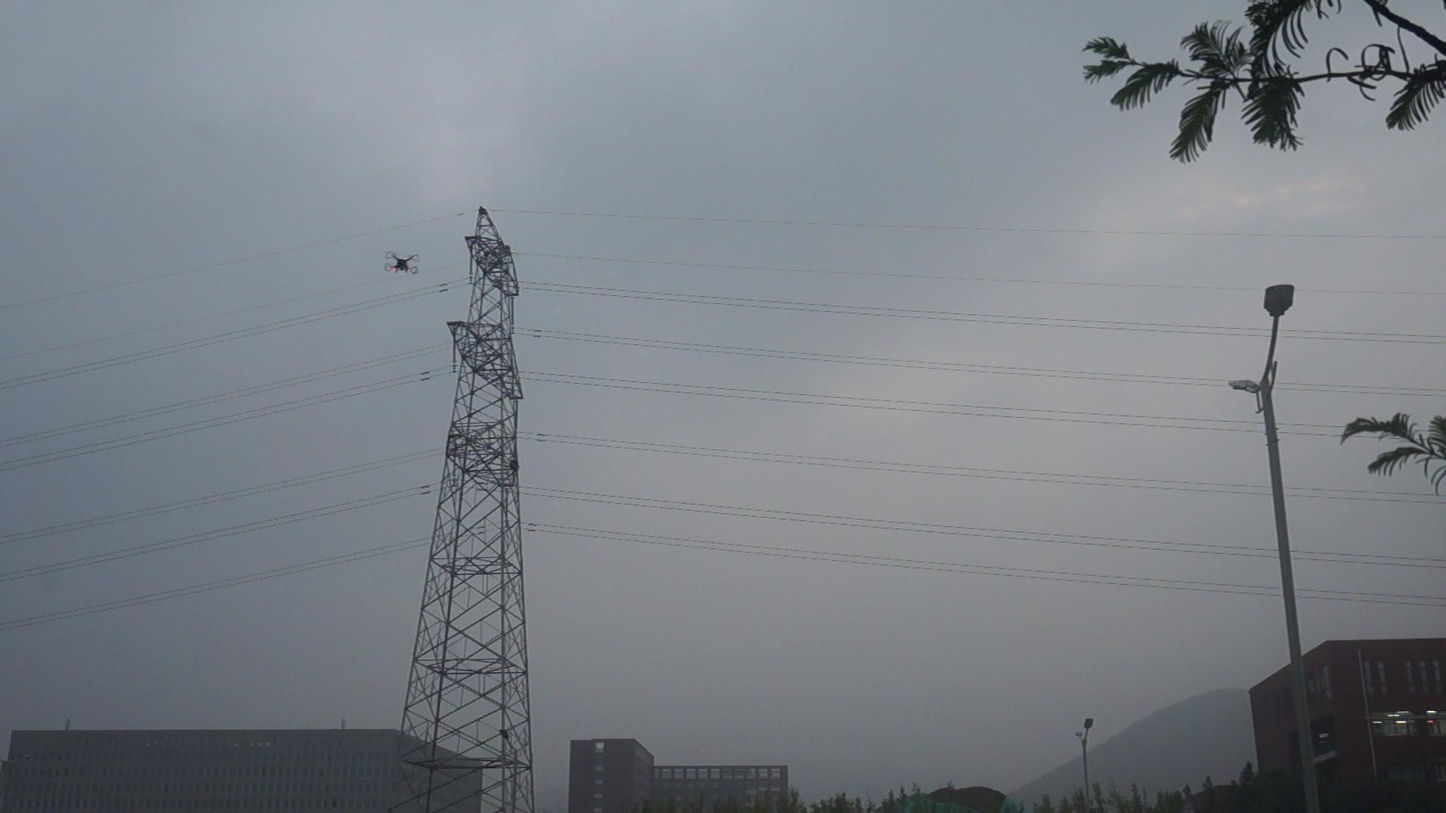UAV: (385, 251, 421, 276)
